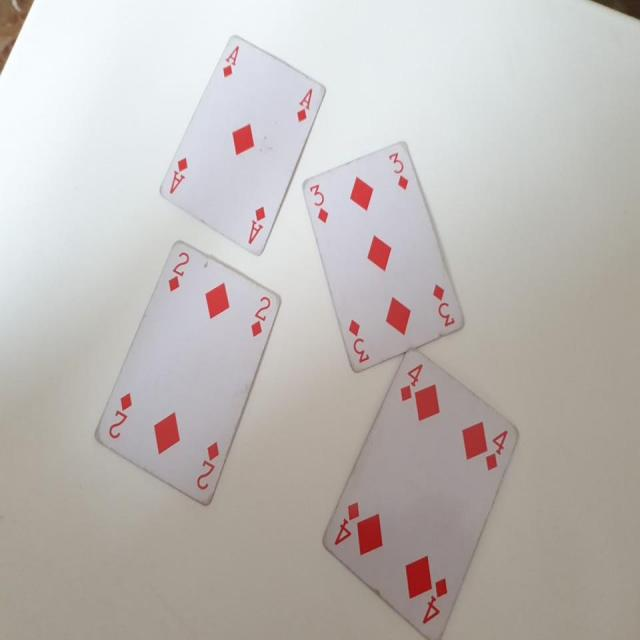2 Diamonds: (93, 238, 284, 518)
3 Diamonds: (300, 140, 467, 378)
4 Diamonds: (317, 346, 525, 640)
A Diamonds: (151, 21, 326, 266)
